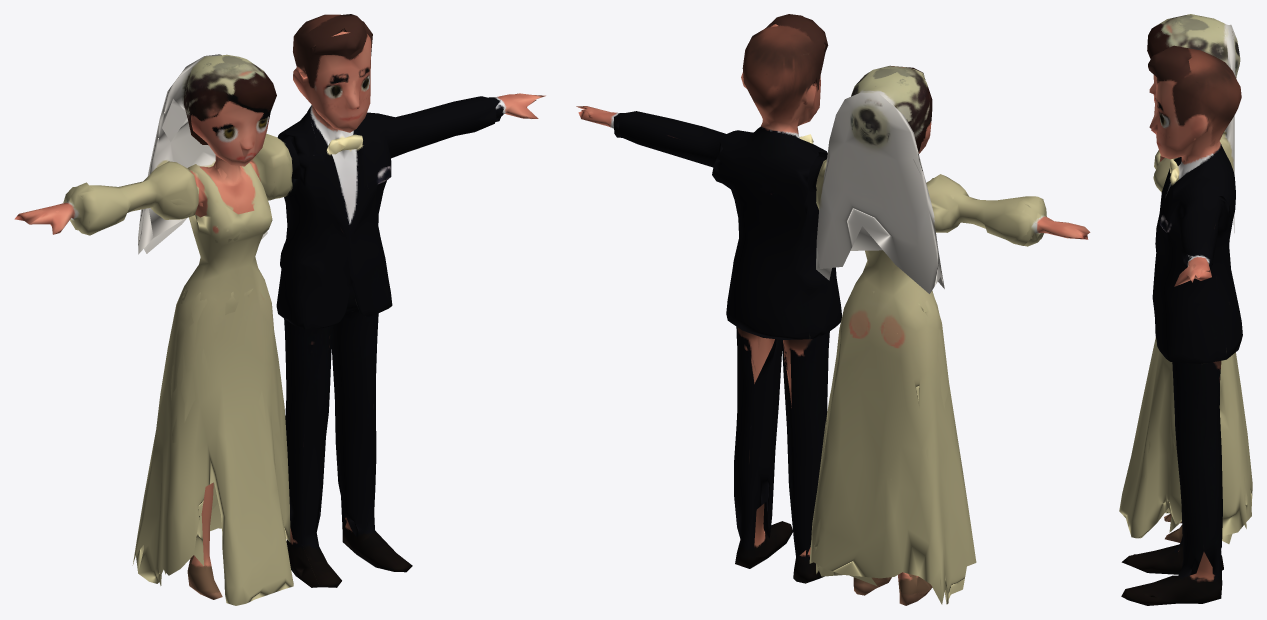
File: wedding.glb
3 renders of one model, left to right at view 1: azimuth 30°, elevation 25°; view 2: azimuth 150°, elevation 25°; view 3: azimuth 270°, elevation 25°, orthographic. The views are drawn at different scales.
Visible parts, largest first — view 1: world; view 2: world; view 3: world.
Boxes of the visible parts, x1,y1,x2,y2 form: world: (14, 14, 545, 605); world: (576, 14, 1090, 605); world: (1119, 14, 1252, 605).
Bounding box in the file's own units: 0.9744 × 0.9687 × 0.2195.
1 material, 1 textured.
